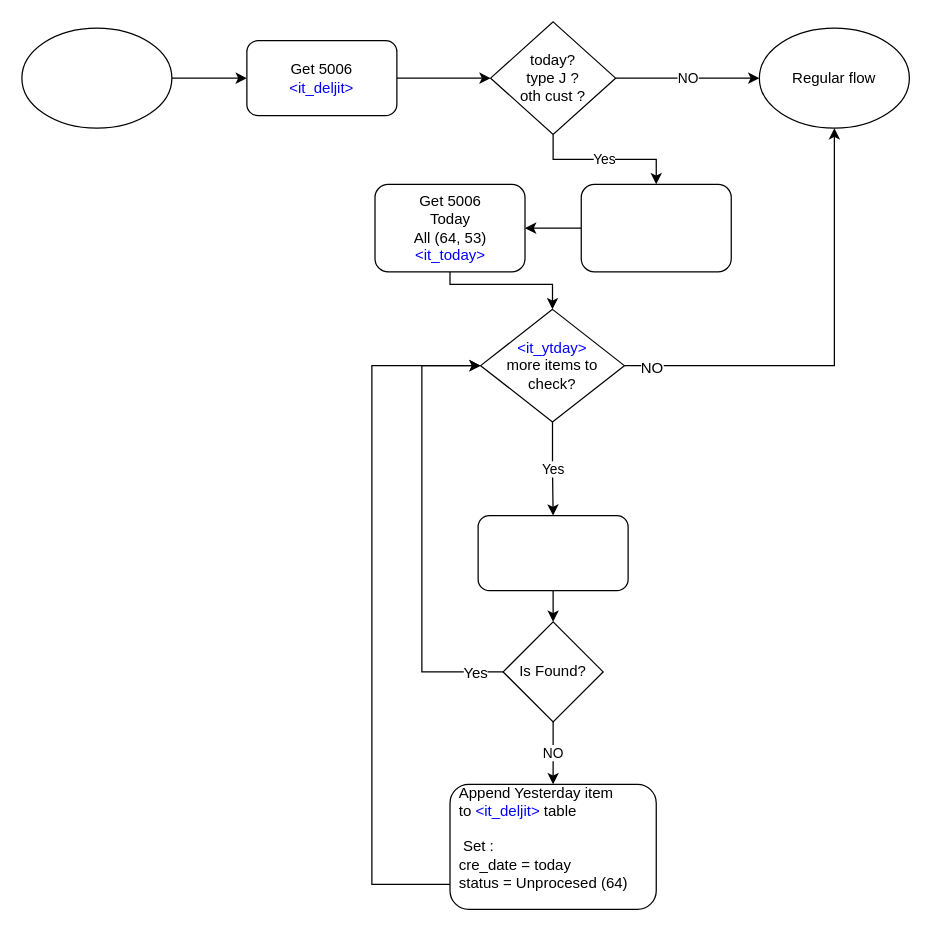
Image size: 931x931. Some labels were removed from this diagram. Each missing label, with the centre of its shape:
"Get 5006 Yesterday Processed (53) <it_ytday>" belongs at (x=655, y=227).
"Get Data" belongs at (x=96, y=77).
"Look yesterday item on today table" belongs at (x=552, y=552).
